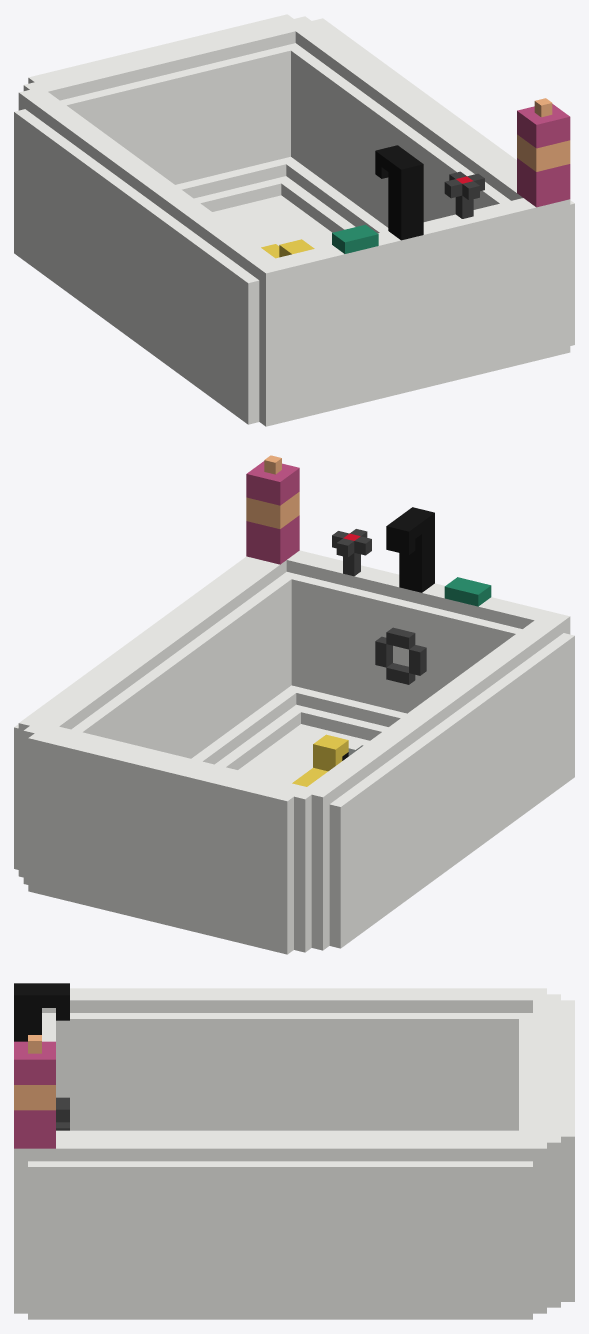
File: banyo-4.obj
The picture shows the model from 3 angles, top to bottom: view 1: azimuth 30°, elevation 25°; view 2: azimuth 150°, elevation 25°; view 3: azimuth 270°, elevation 25°; orthographic projection. The views are drawn at different scales.
Size of the model in its own units: 2.9 by 2.1 by 4.
Materials: 1 (1 with a texture image).
